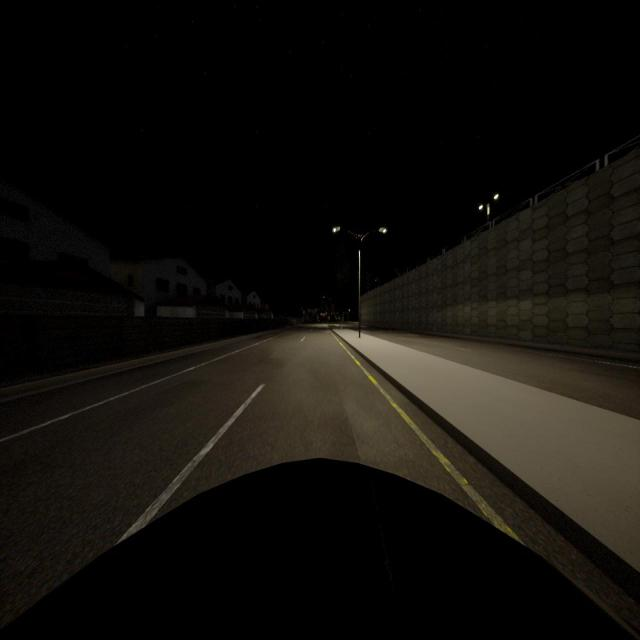Vehicle: (1, 460, 640, 638)
